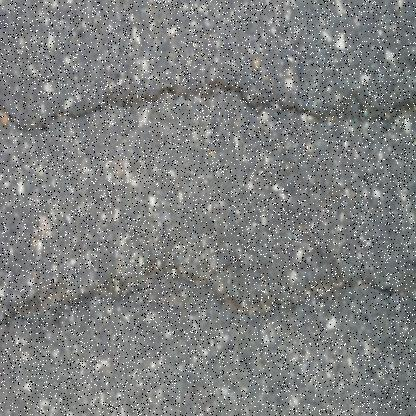Cracks: (0, 243, 415, 337), (0, 63, 415, 142)
